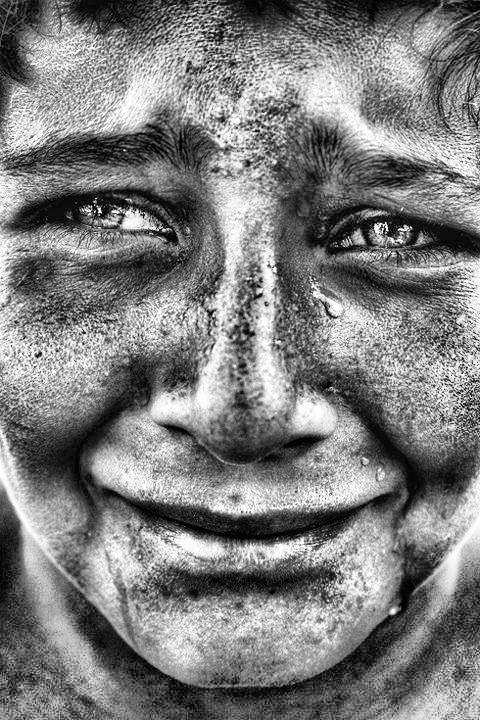sad: (17, 27, 480, 683)
